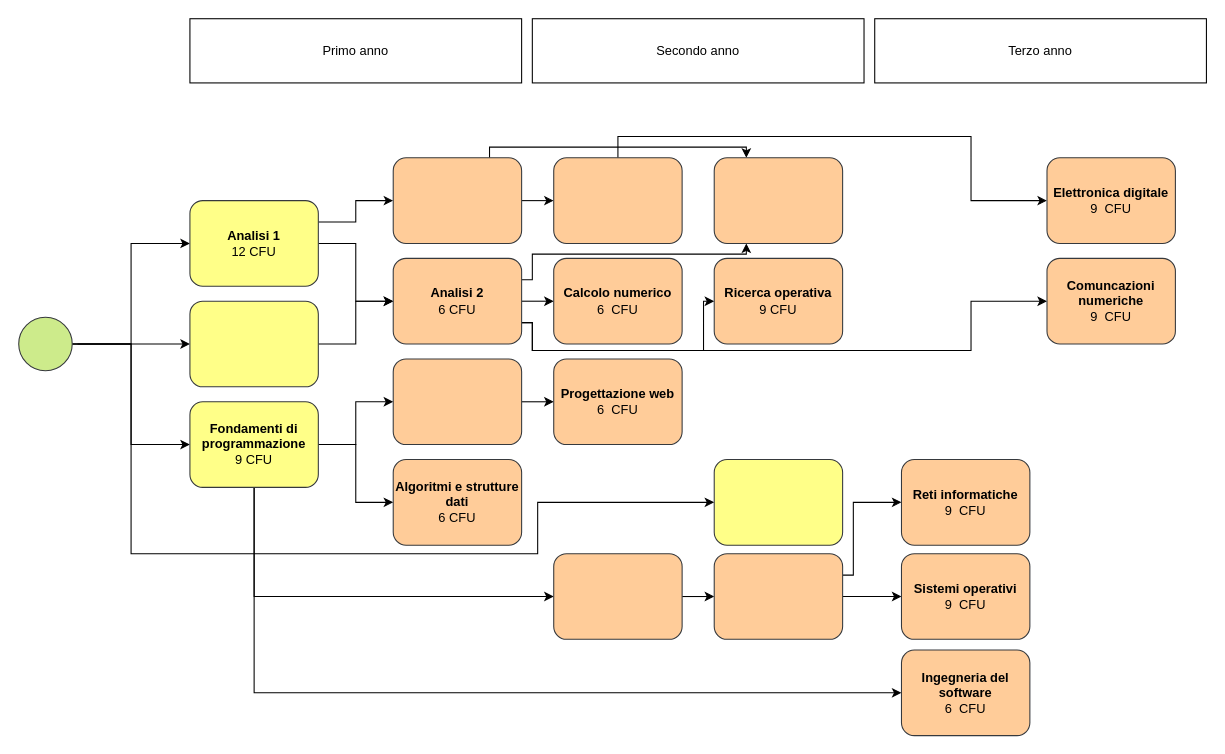
This 1225x754 diagram has some shape labels left out. The shapes that lost their labels are listed below. From the top down, each one's box as (x1, y1, x2, y2) in pixels, then its label:
(392, 157, 522, 243): Fisica Generale 12 CFU
(553, 157, 682, 243): Elettrotecnica 6 CFU
(713, 157, 843, 243): Fondamenti di automatica 9 CFU
(189, 300, 318, 387): Algebra lineare 6 CFU
(392, 358, 522, 445): Basi di dati 9 CFU
(713, 458, 843, 545): Economia ed organizzazione aziendale 6 CFU
(553, 553, 682, 639): Reti logiche 9 CFU
(713, 553, 843, 639): Calcolatori elettronici 9 CFU
